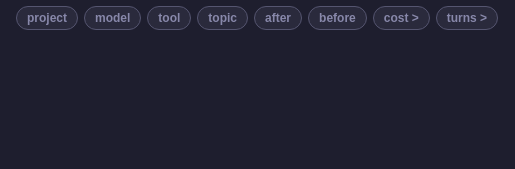
Scenario: FilterChips — autocomplete chips › shows 'No matches' when filter text matches nothing
This screenshot has width=515, height=169.
Click the button "project". click: point(47, 18)
box: [16,6,78,30]
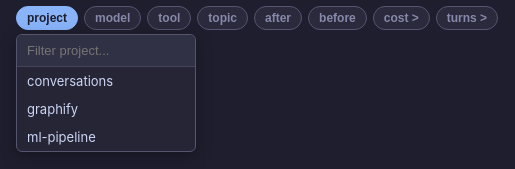
Type "xyzzy" into the field with placeholder "Filter project...". click: point(106, 51)
box: [17,35,195,67]
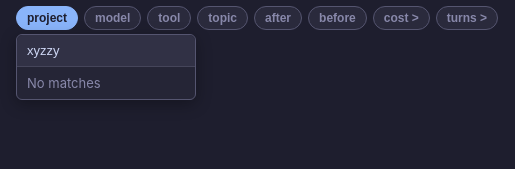
expect the text "No matches" is shown: met, box [27,75,101,91]
